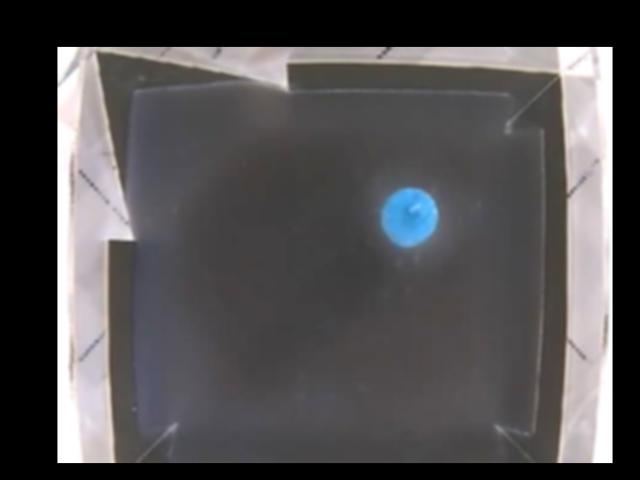Carrot: (380, 185, 439, 245)
